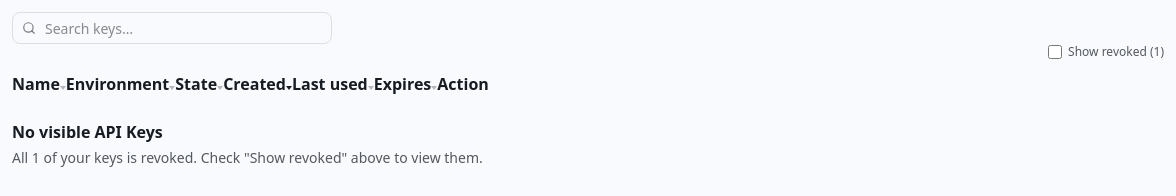
it: KeysTable — actions per state › revoked: no actions available
This screenshot has width=1176, height=196.
# Revoked is hidden by default — reveal it via the toggle first.
Click the checkbox labelled "Show revoked (1)": (1055,52) x1=1048 y1=45 x2=1062 y2=59
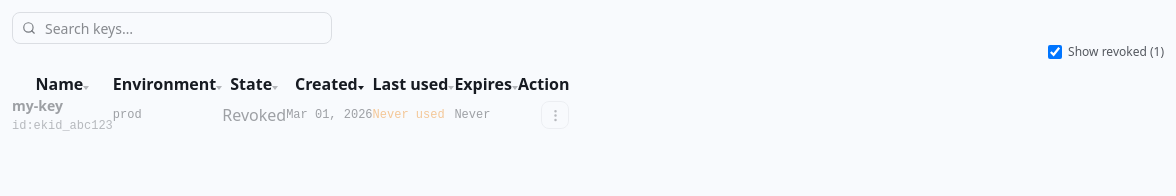
Press Enter in the button named "More actions", box x1=542 y1=101 x2=570 y2=129
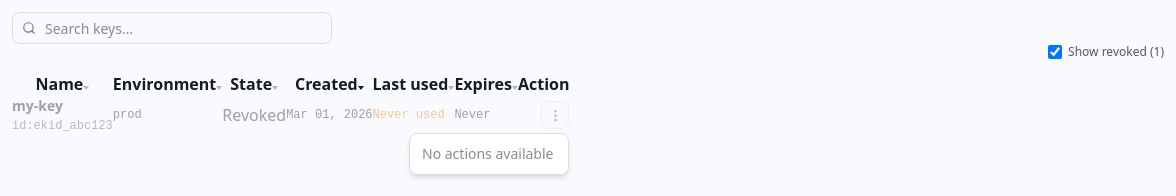
Expected: the menu item "No actions available" is shown, x1=422 y1=144 x2=554 y2=163
